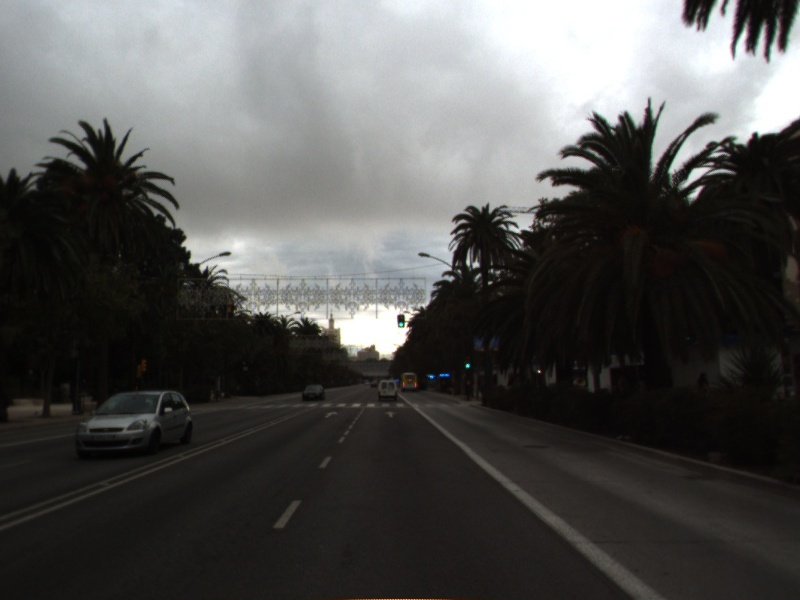STRAIGHT: (381, 409, 399, 420), (322, 409, 340, 420)
